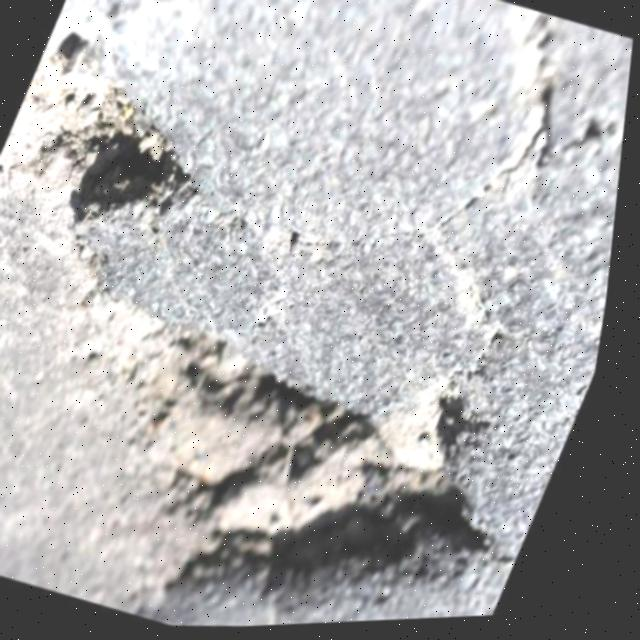Pothole: (82, 262, 576, 635), (0, 20, 234, 282)
